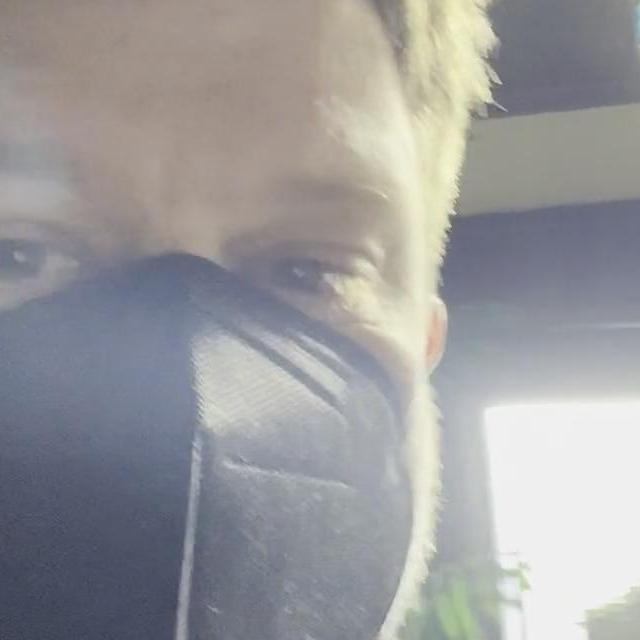Mask: (0, 253, 415, 640)
NO-Hardhat: (0, 0, 445, 145)
Person: (0, 0, 613, 640)
